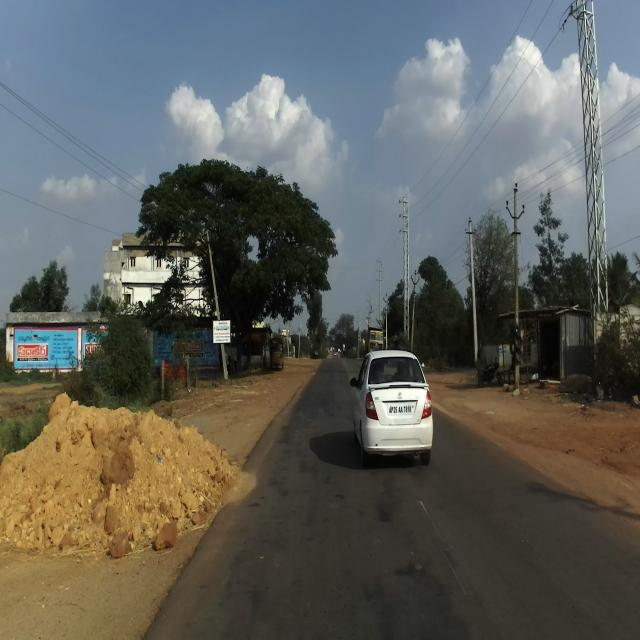Car_TATA: (349, 351, 433, 468)
